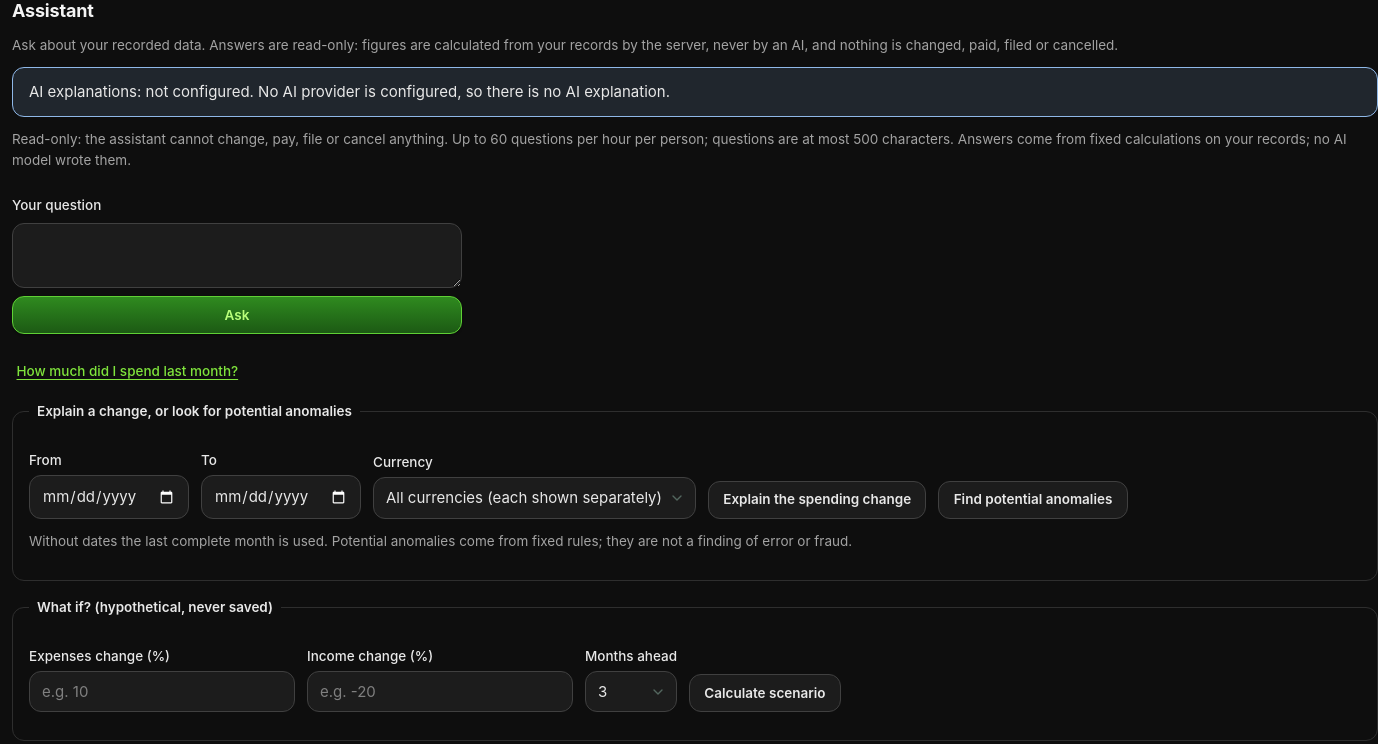
Scenario: assistant › shows server errors and lets the person retry safely
In the text box labelled "Your question": (237, 256) top-left (12, 223), bottom-right (462, 288), type "spend last month"
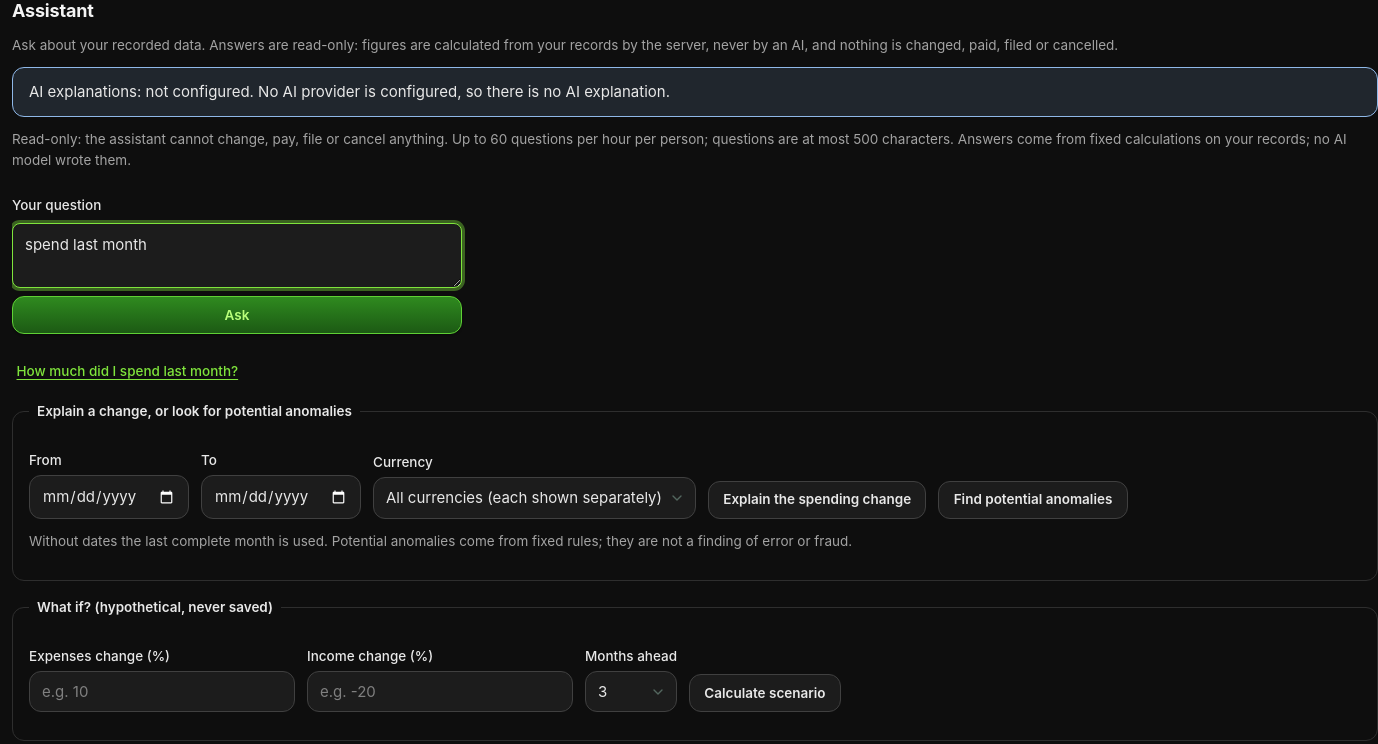
Click the button "Ask": (237, 315) top-left (12, 296), bottom-right (462, 334)
(page scrolled)
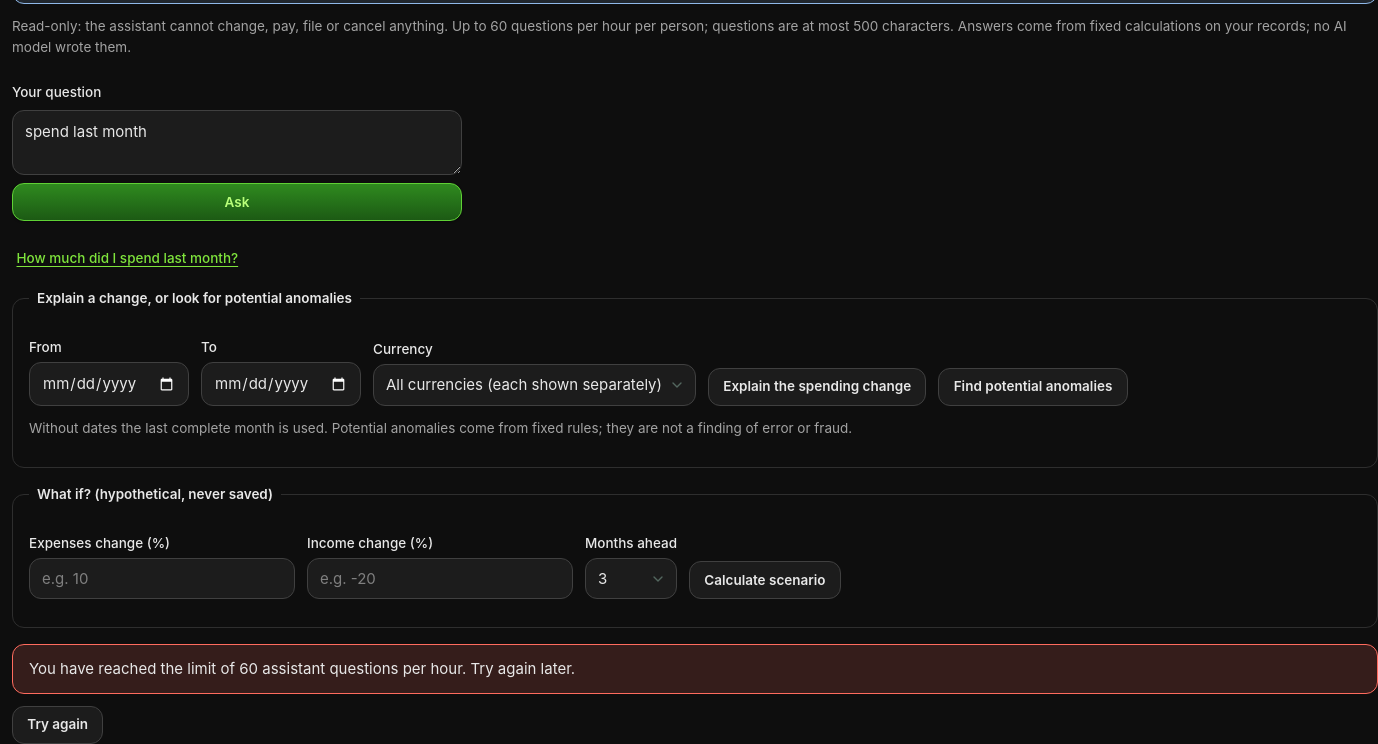
Expected: the 2nd message shows "limit of 60 assistant questions per hour", top-left (29, 659), bottom-right (575, 678)
Click the button "Try again": (58, 725) top-left (12, 706), bottom-right (103, 743)
(page scrolled)
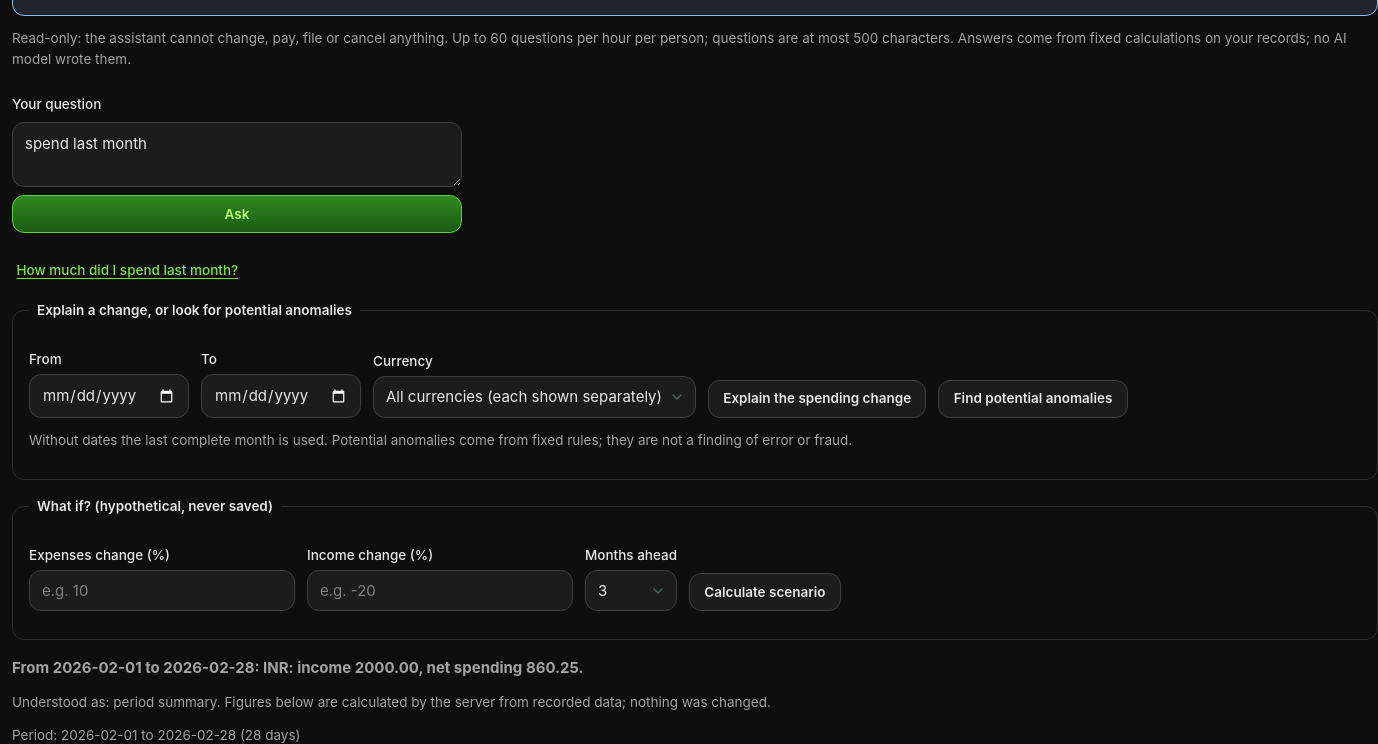
Expected: the text "INR: income 2000.00" is shown, top-left (12, 658), bottom-right (584, 677)
